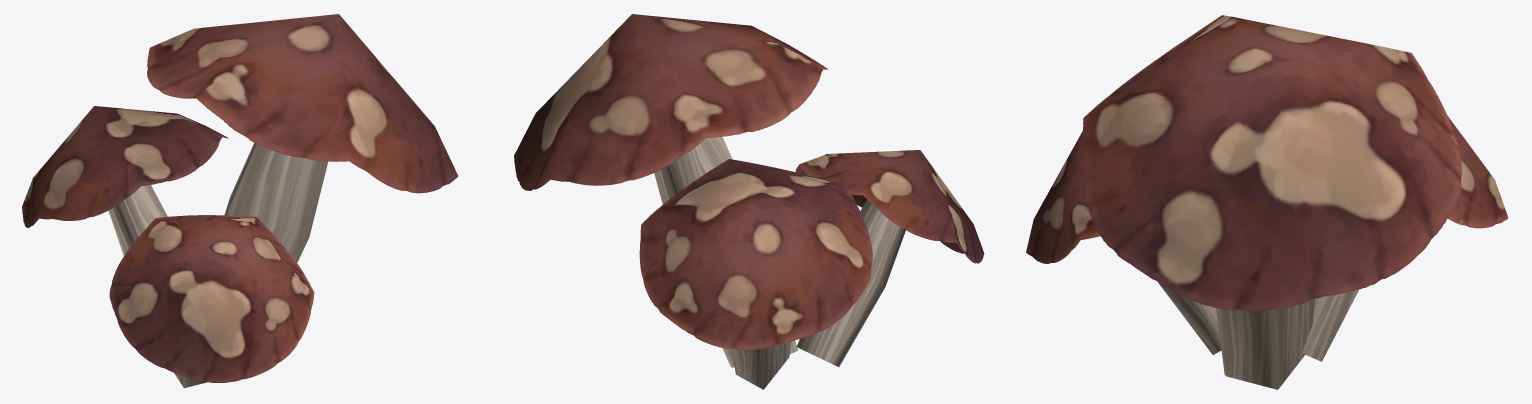
File: veg_mushroom.fbx
3 views of the same model, side by side, from view 1: azimuth 30°, elevation 25°; view 2: azimuth 150°, elevation 25°; view 3: azimuth 270°, elevation 25° (orthographic). The views are drawn at different scales.
Visible parts, largest first — view 1: veg_mushroom; view 2: veg_mushroom; view 3: veg_mushroom.
Part boxes in pixels (<box>): veg_mushroom: <box>22,14,458,388</box>; veg_mushroom: <box>514,14,984,389</box>; veg_mushroom: <box>1026,15,1508,389</box>.
Bounding box in the file's own units: 44.03 × 34.67 × 42.05.
